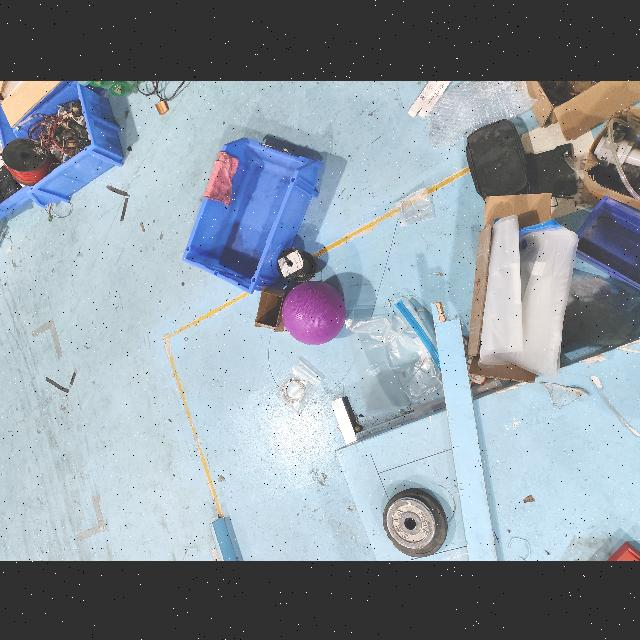P: (278, 279, 346, 343)
